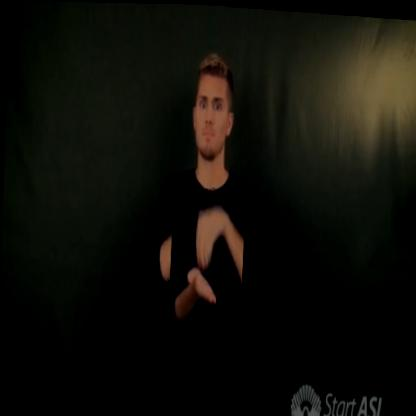Expensive: (166, 185, 246, 326)
